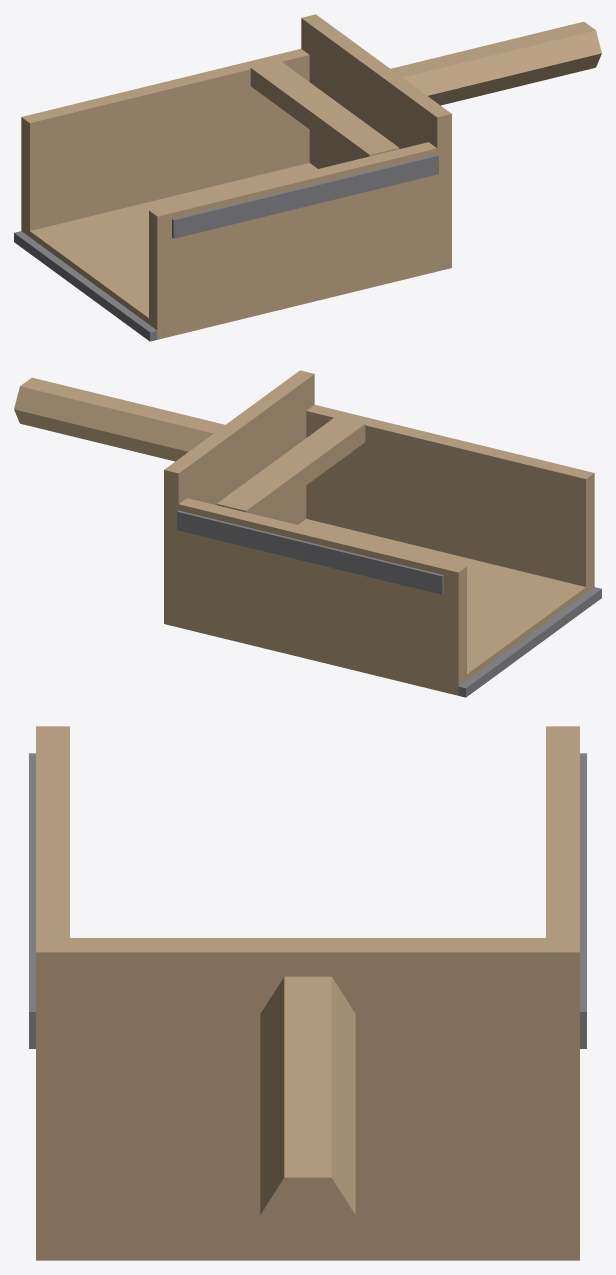
Rendered from prop-measuring-scoop-cb1.fbx.
The picture shows the model from 3 angles, top to bottom: view 1: azimuth 30°, elevation 25°; view 2: azimuth 150°, elevation 25°; view 3: azimuth 270°, elevation 25°; orthographic projection. The views are drawn at different scales.
Parts seen in each view (by area): view 1: prop-measuring-scoop-cb1; view 2: prop-measuring-scoop-cb1; view 3: prop-measuring-scoop-cb1.
Part boxes in pixels (x1,y1,x2,y2): prop-measuring-scoop-cb1: (14, 14, 601, 341); prop-measuring-scoop-cb1: (14, 370, 601, 697); prop-measuring-scoop-cb1: (29, 726, 586, 1260).
Bounding box in the file's own units: 34.5 × 10 × 16.4.
